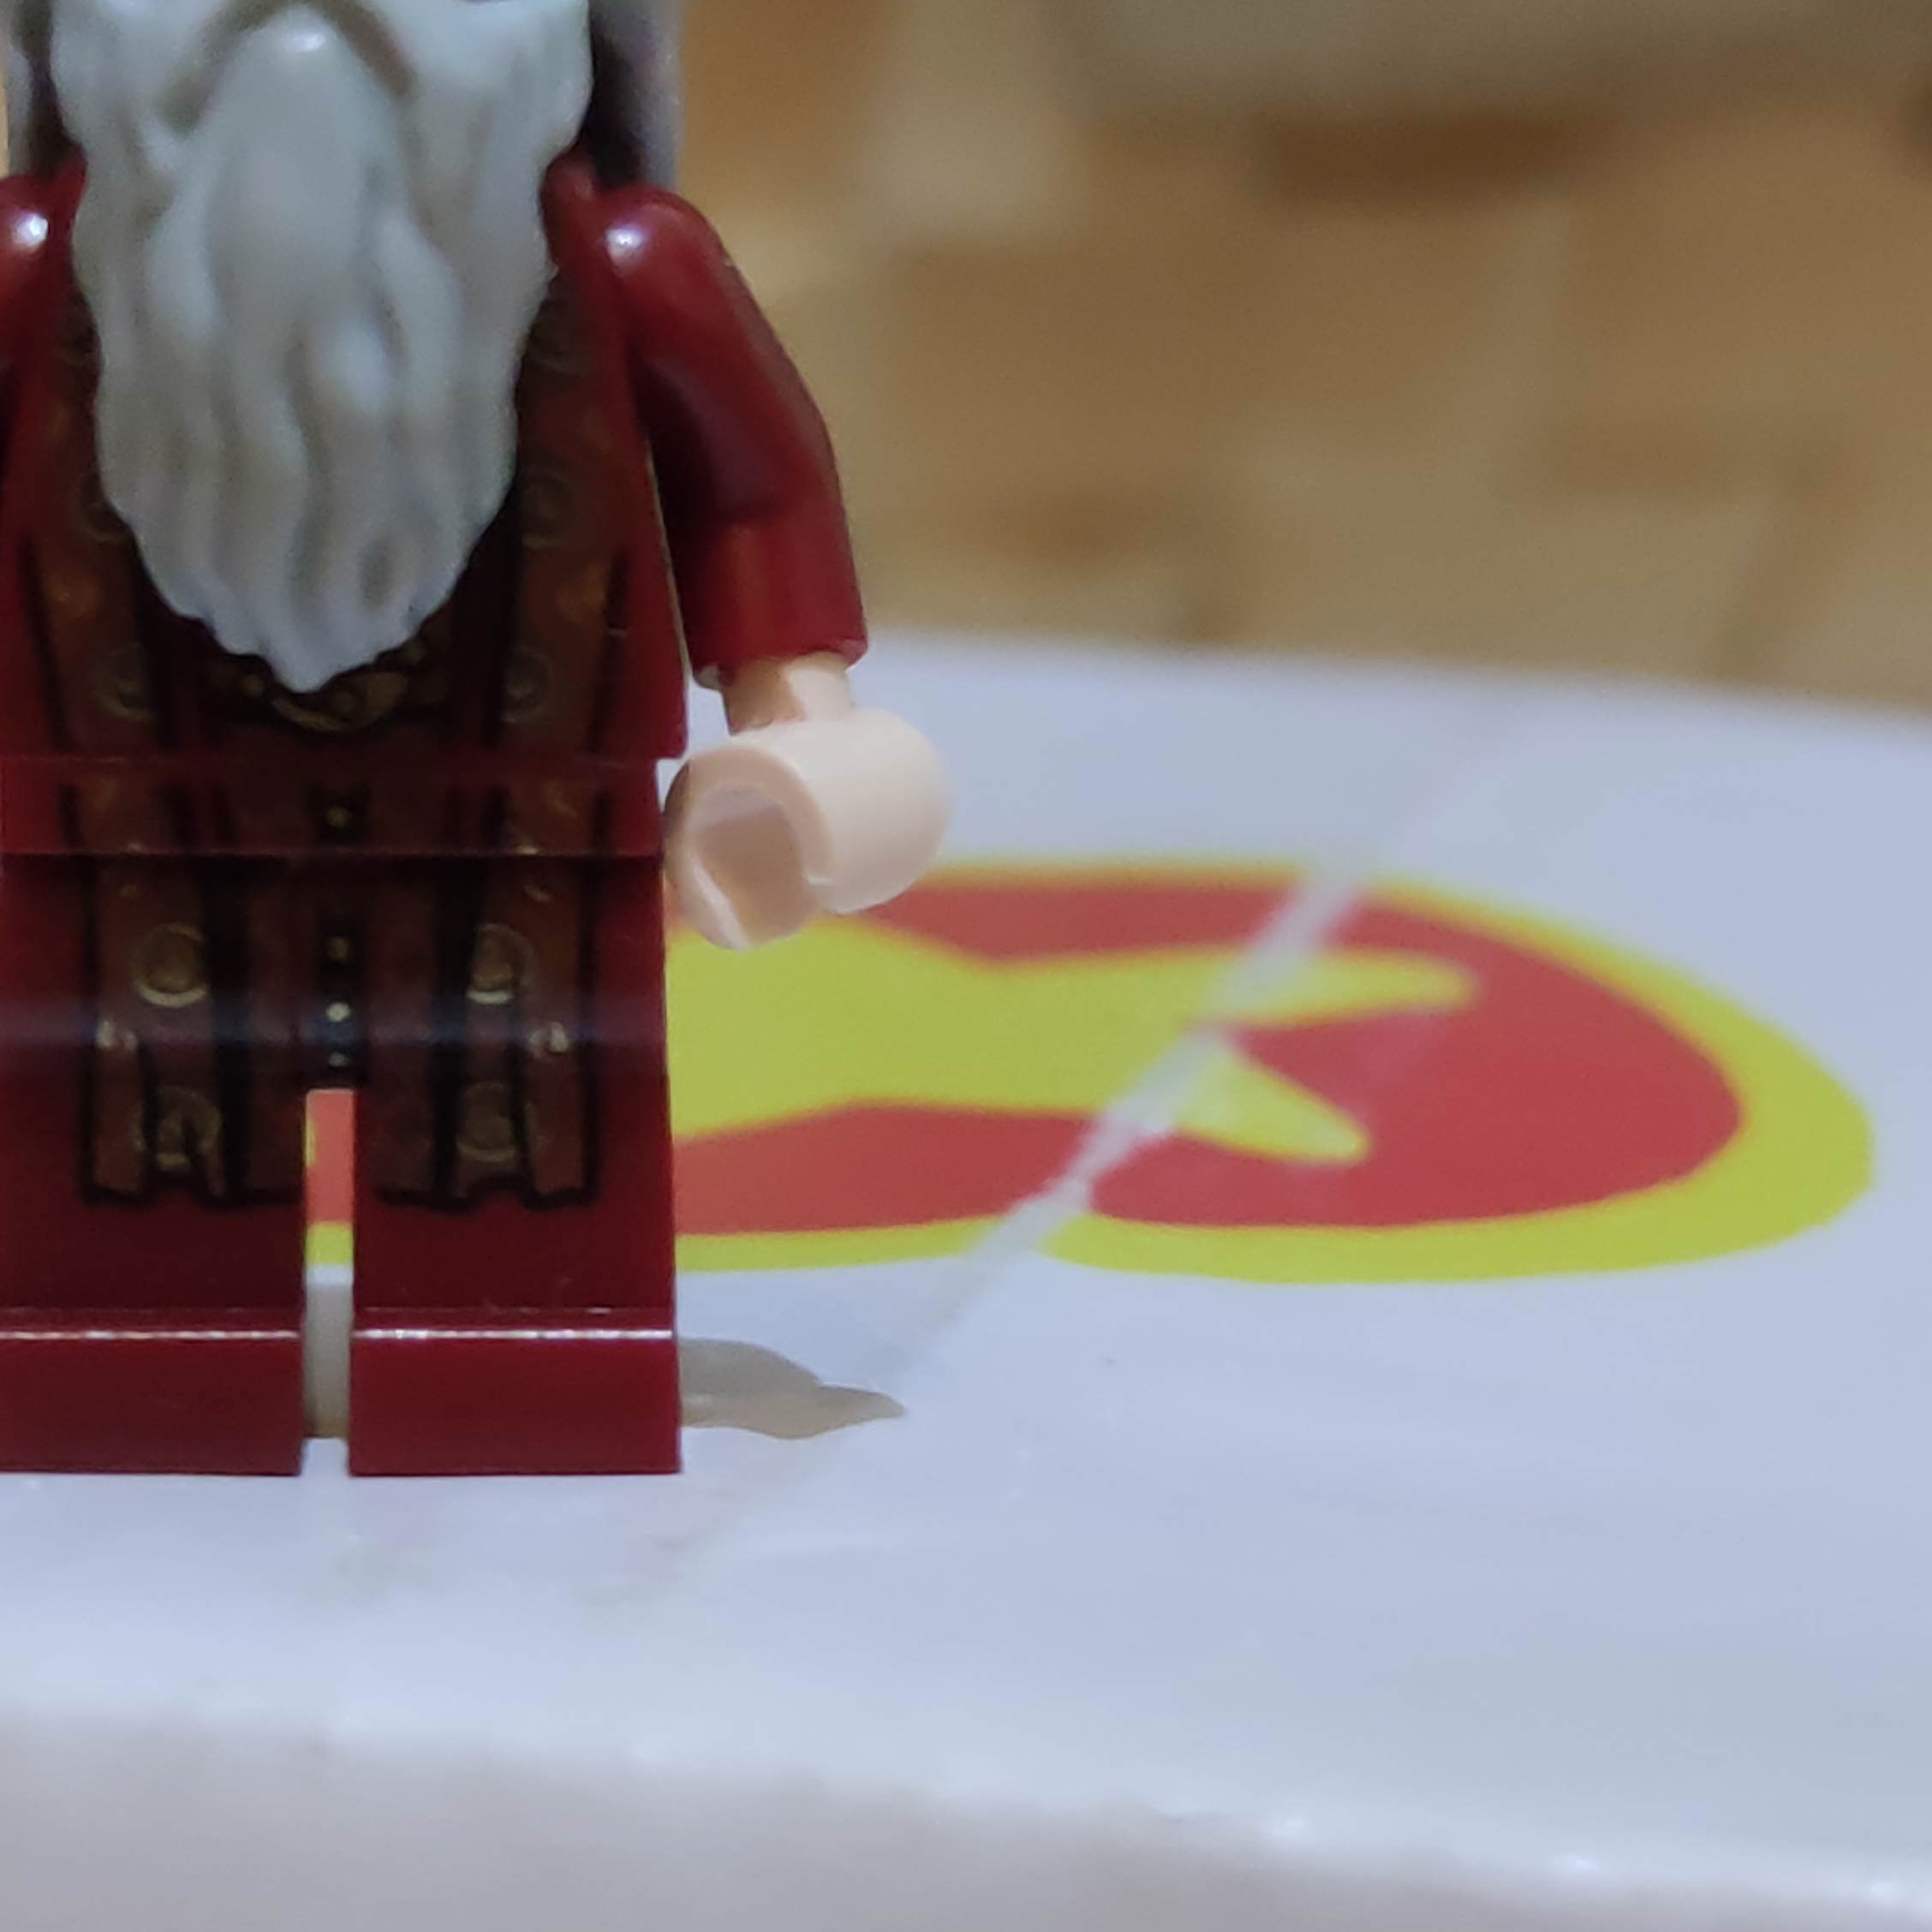lego: (0, 7, 952, 1486)
